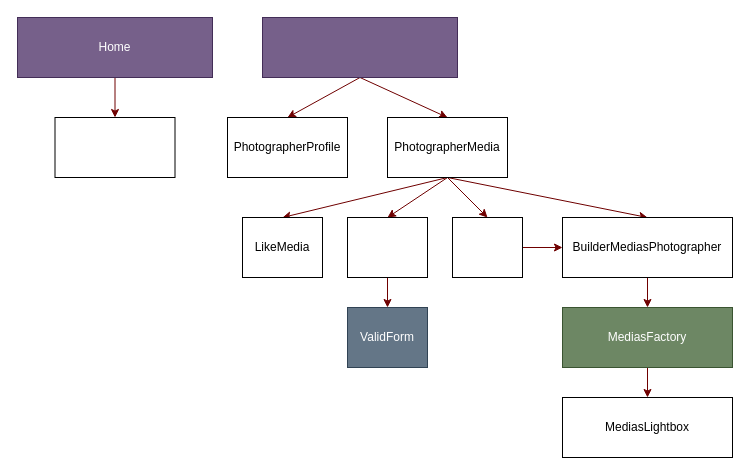
This 750x475 diagram has some shape labels left out. The box of each missing label's shape, as (x1, y1, x2, y2) in pixels:
index: (54, 116, 175, 178)
ModalForm: (346, 216, 428, 278)
Profile: (262, 16, 458, 78)
SortMedia: (452, 216, 522, 278)
